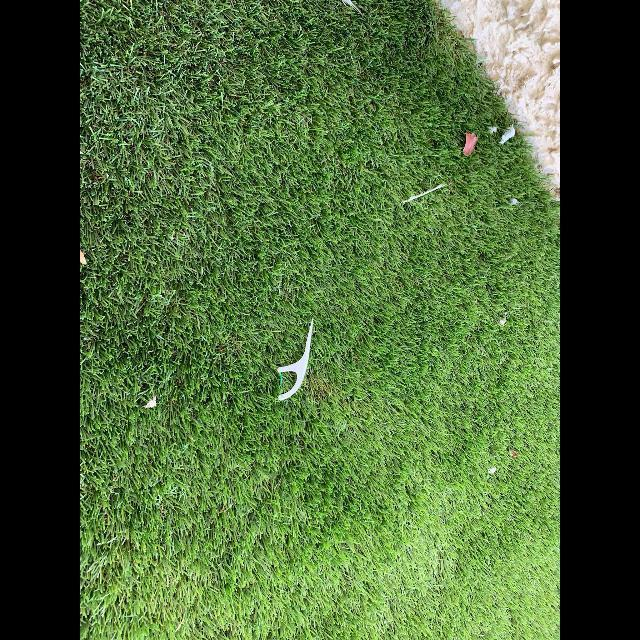Plastic: (276, 318, 312, 399)
